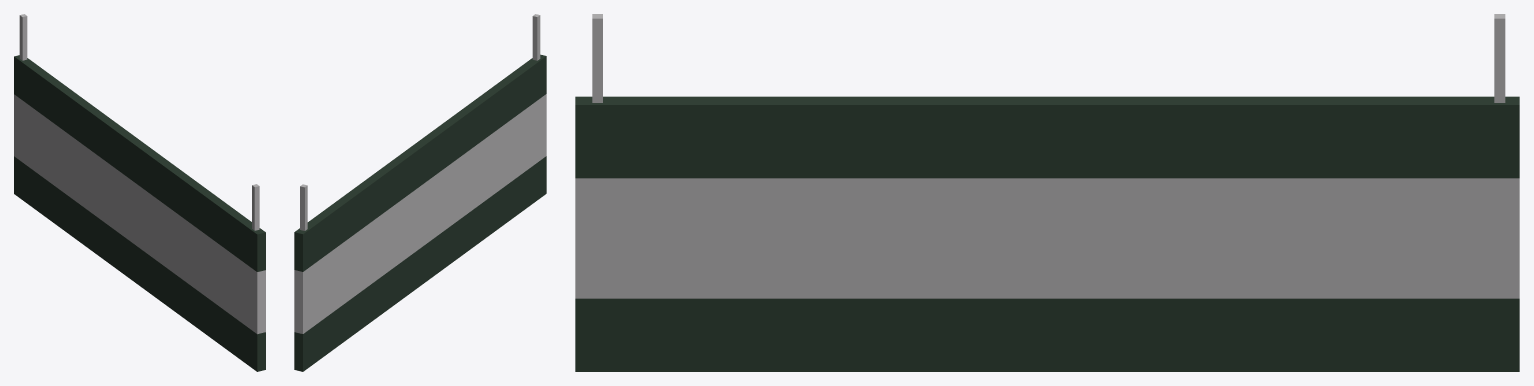
Rendered from SM_shopBoard_01.glb.
3 views of the same model, side by side, from view 1: azimuth 30°, elevation 25°; view 2: azimuth 150°, elevation 25°; view 3: azimuth 270°, elevation 25° (orthographic). The views are drawn at different scales.
Parts seen in each view (by area): view 1: SM_shopBoard_01; view 2: SM_shopBoard_01; view 3: SM_shopBoard_01.
Part boxes in pixels (x1,y1,x2,y2): SM_shopBoard_01: (14, 14, 265, 371); SM_shopBoard_01: (294, 14, 546, 371); SM_shopBoard_01: (575, 14, 1519, 371).
Size of the model in its own units: 0.0285 by 0.5714 by 1.39.
Materials: 1 (1 with a texture image).
